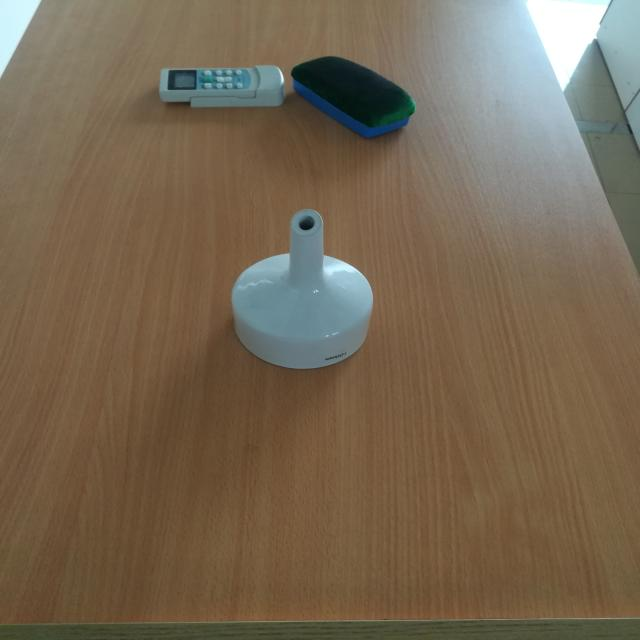Buchner_Funnel: (183, 172, 430, 396)
